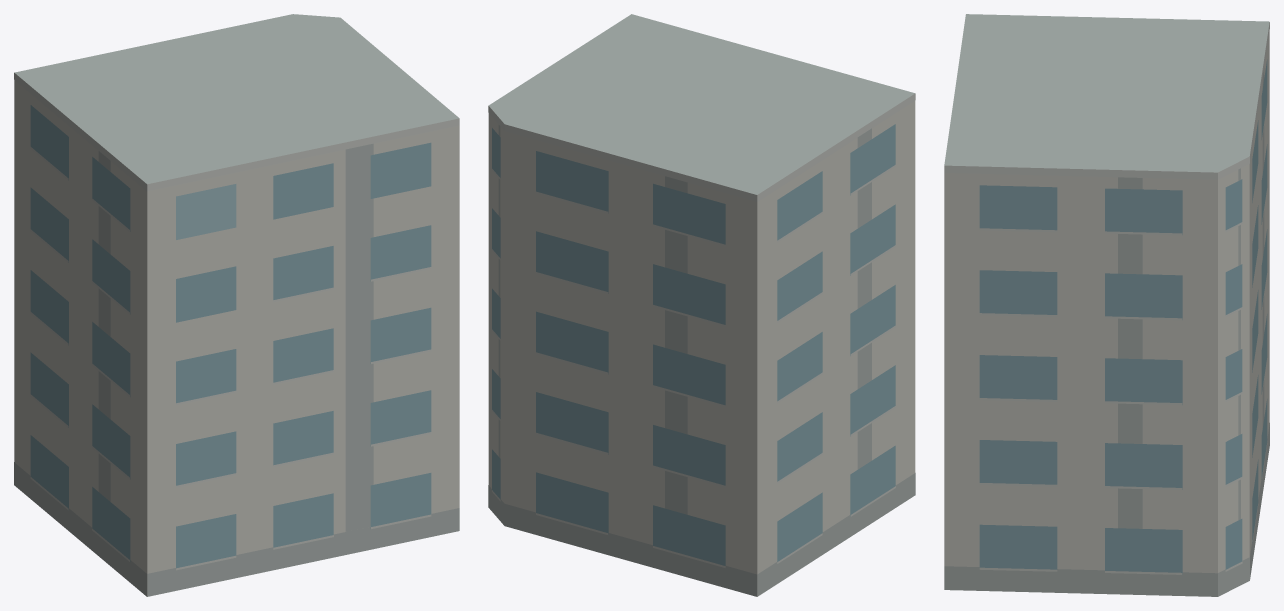
The model's file is survey-upis-32752495.glb.
The picture shows the model from 3 angles, left to right: view 1: azimuth 30°, elevation 25°; view 2: azimuth 150°, elevation 25°; view 3: azimuth 270°, elevation 25°; orthographic projection. The views are drawn at different scales.
Visible parts, largest first — view 1: survey-upis-32752495.tmp; view 2: survey-upis-32752495.tmp; view 3: survey-upis-32752495.tmp.
Part boxes in pixels (x1,y1,x2,y2): survey-upis-32752495.tmp: (14,14,459,596); survey-upis-32752495.tmp: (488,14,915,596); survey-upis-32752495.tmp: (944,14,1269,596).
Bounding box in the file's own units: 11.35 × 14.15 × 9.85.
